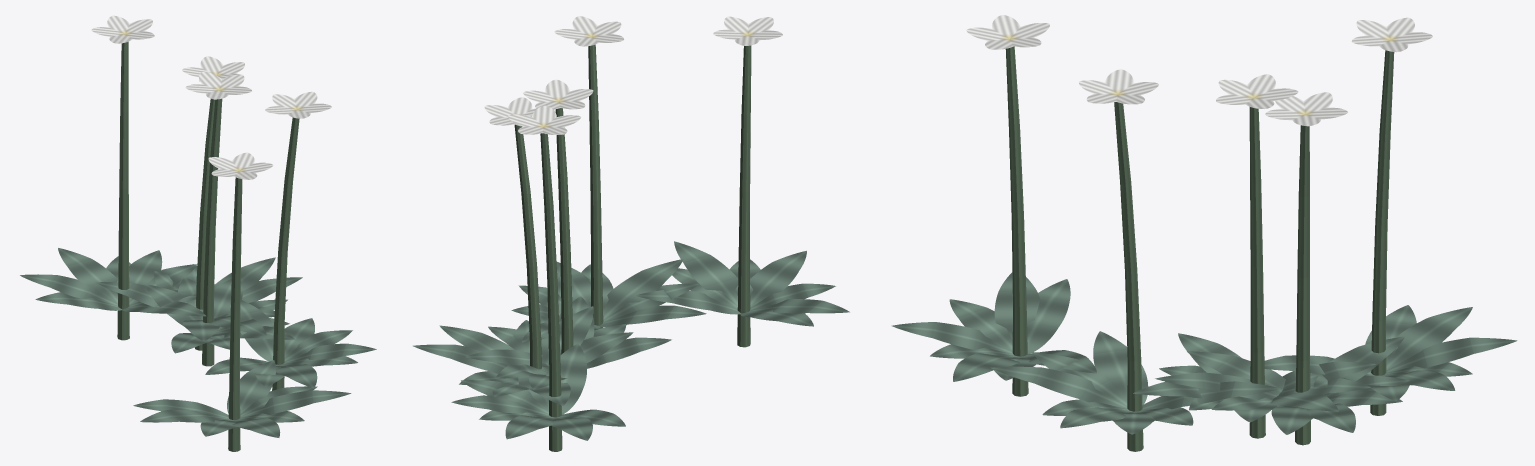
File: frost_saxifrage_v01.fbx
3 views of the same model, side by side, from view 1: azimuth 30°, elevation 25°; view 2: azimuth 150°, elevation 25°; view 3: azimuth 270°, elevation 25° (orthographic). The views are drawn at different scales.
Parts seen in each view (by area): view 1: frost_saxifrage_v01; view 2: frost_saxifrage_v01; view 3: frost_saxifrage_v01.
Boxes of the visible parts, bbox=[...] form: frost_saxifrage_v01: bbox=[20, 15, 376, 451]; frost_saxifrage_v01: bbox=[413, 16, 849, 451]; frost_saxifrage_v01: bbox=[891, 15, 1517, 451].
Size of the model in its own units: 9.7 by 15.23 by 10.19.
3 materials, 3 textured.
